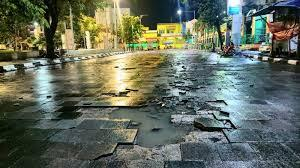Pothole: (106, 105, 219, 152)
